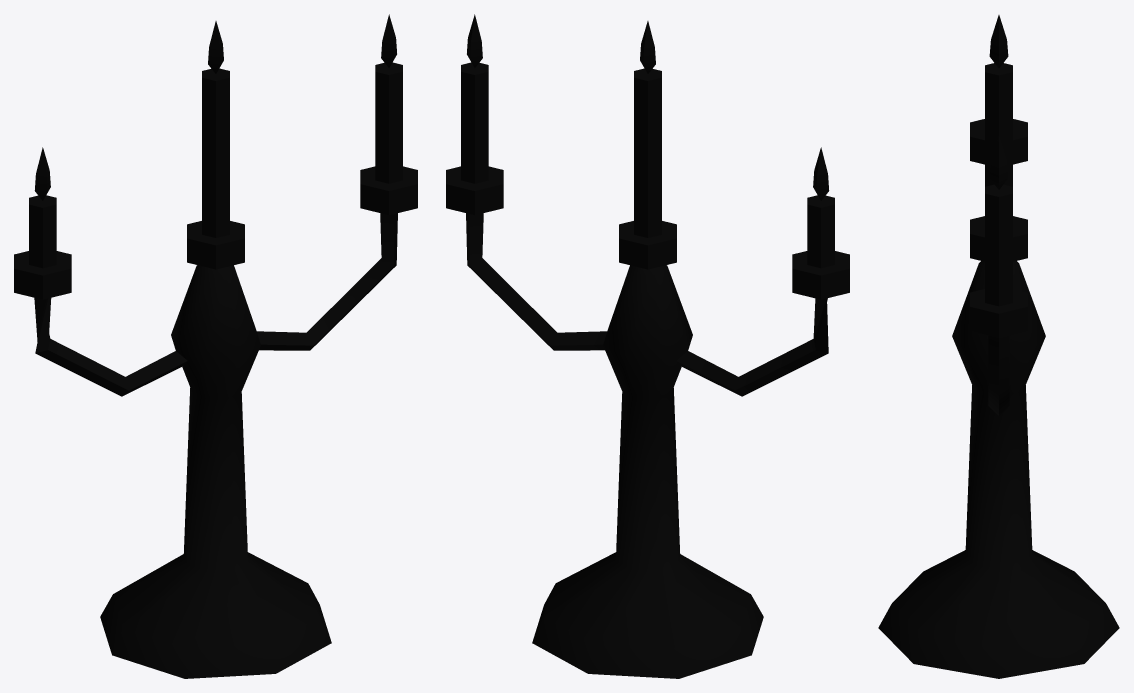
Rendered from SM_candelabrum_table.fbx.
3 renders of one model, left to right at view 1: azimuth 30°, elevation 25°; view 2: azimuth 150°, elevation 25°; view 3: azimuth 270°, elevation 25°, orthographic.
Visible parts, largest first — view 1: candelabrum_table; view 2: candelabrum_table; view 3: candelabrum_table.
Boxes of the visible parts, left/top/right/bottom form: candelabrum_table: left=14, top=14, right=417, bottom=678; candelabrum_table: left=446, top=14, right=849, bottom=678; candelabrum_table: left=878, top=15, right=1119, bottom=678.
Bounding box in the file's own units: 0.35 × 0.505 × 0.18.
